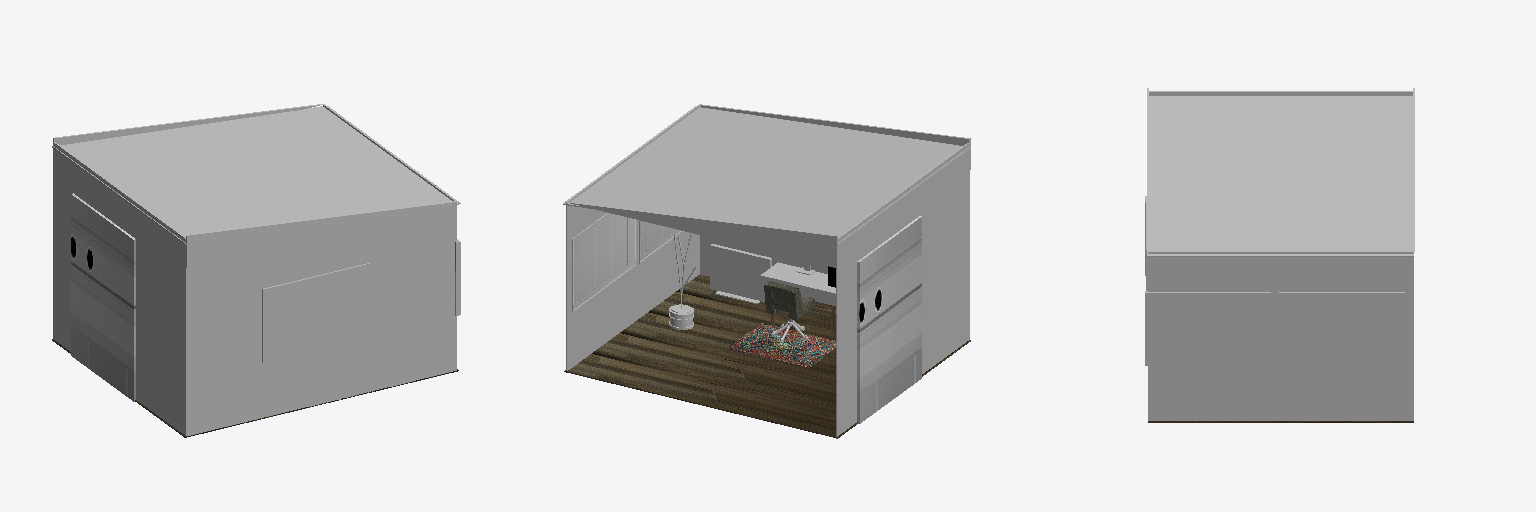
3 views of the same model, side by side, from view 1: azimuth 30°, elevation 25°; view 2: azimuth 150°, elevation 25°; view 3: azimuth 270°, elevation 25° (orthographic).
Visible parts, largest first — view 1: Cube.004, Cube.005, Cube.054, Cube.069, Cube.035, Cube.006, Cube.007; view 2: Cube.005, Cube.001, Cube.054, Cube.069, Cube.002, Cube.007, Cube.068, Cube.032, Cube.036, Cube.009, Cube.006, Cube.004 (+1 smaller); view 3: Cube.005, Cube.002, Cube.067, Cube.068, Cube.054, Cube.001.
Boxes of the visible parts, x1,y1,x2,y2 form: Cube.004: [187, 202, 456, 435]; Cube.005: [52, 106, 460, 244]; Cube.054: [53, 142, 186, 435]; Cube.069: [71, 193, 135, 401]; Cube.035: [262, 263, 371, 362]; Cube.006: [186, 201, 457, 267]; Cube.007: [53, 104, 323, 169]; Cube.005: [563, 106, 970, 244]; Cube.001: [564, 274, 970, 438]; Cube.054: [836, 143, 969, 438]; Cube.069: [857, 216, 921, 423]; Cube.002: [566, 105, 699, 370]; Cube.007: [566, 202, 837, 267]; Cube.068: [572, 213, 635, 311]; Cube.032: [728, 323, 835, 368]; Cube.036: [710, 244, 771, 301]; Cube.009: [760, 262, 835, 305]; Cube.006: [699, 104, 970, 170]; Cube.004: [700, 105, 827, 276]; Cube.005: [1147, 96, 1413, 256]; Cube.002: [1148, 251, 1413, 420]; Cube.067: [1145, 291, 1270, 365]; Cube.068: [1279, 292, 1404, 365]; Cube.054: [1149, 91, 1412, 95]; Cube.001: [1148, 421, 1413, 422].
Size of the model in its own units: 24.25 by 17.11 by 20.47.
34 materials, 9 textured.